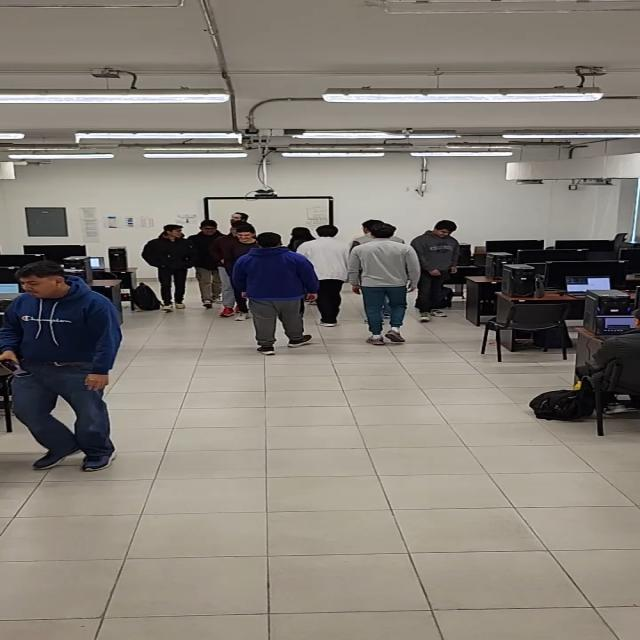Persona: (8, 262, 122, 472), (237, 233, 316, 351), (356, 222, 409, 348), (418, 218, 460, 321), (192, 219, 226, 314), (153, 225, 186, 305), (230, 223, 252, 258)
